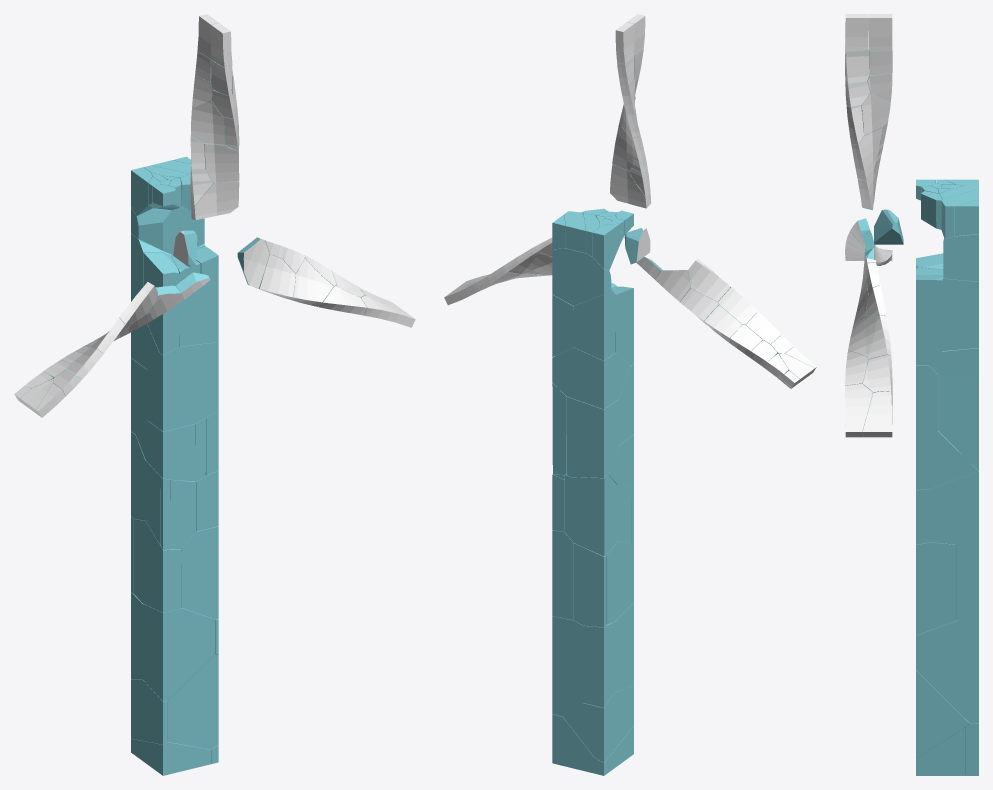
File: windturbine_fracture.glb
3 views of the same model, side by side, from view 1: azimuth 30°, elevation 25°; view 2: azimuth 150°, elevation 25°; view 3: azimuth 270°, elevation 25° (orthographic). The views are drawn at different scales.
Parts seen in each view (by area): view 1: WindTurbine_cell.033, WindTurbine_cell.086, WindTurbine_cell.080, WindTurbine_cell.094, WindTurbine_cell.015, WindTurbine_cell.088, WindTurbine_cell.073, WindTurbine_cell.059, WindTurbine_cell.099, WindTurbine_cell.081, WindTurbine_cell.032, WindTurbine_cell.019 (+22 smaller); view 2: WindTurbine_cell.072, WindTurbine_cell.012, WindTurbine_cell.099, WindTurbine_cell.004, WindTurbine_cell.005, WindTurbine_cell.073, WindTurbine_cell.075, WindTurbine_cell.031, WindTurbine_cell.089, WindTurbine_cell.094, WindTurbine_cell.063, WindTurbine_cell.056 (+21 smaller); view 3: WindTurbine_cell.004, WindTurbine_cell.015, WindTurbine_cell.062, WindTurbine_cell.060, WindTurbine_cell.022, WindTurbine_cell.080, WindTurbine_cell.054, WindTurbine_cell.032, WindTurbine_cell.063, WindTurbine_cell.083, WindTurbine_cell.073, WindTurbine_cell.033 (+30 smaller).
Boxes of the visible parts, box(x1,y1,x2,y2) form: WindTurbine_cell.033: box(147, 342, 218, 431); WindTurbine_cell.086: box(142, 604, 214, 701); WindTurbine_cell.080: box(168, 654, 218, 749); WindTurbine_cell.094: box(133, 519, 181, 612); WindTurbine_cell.015: box(181, 526, 218, 619); WindTurbine_cell.088: box(136, 420, 195, 481); WindTurbine_cell.073: box(131, 207, 204, 254); WindTurbine_cell.059: box(143, 252, 179, 354); WindTurbine_cell.099: box(131, 679, 167, 744); WindTurbine_cell.081: box(131, 738, 210, 775); WindTurbine_cell.032: box(196, 246, 218, 343); WindTurbine_cell.019: box(170, 479, 195, 549); WindTurbine_cell.072: box(566, 396, 618, 477); WindTurbine_cell.012: box(552, 347, 630, 409); WindTurbine_cell.099: box(563, 685, 633, 762); WindTurbine_cell.004: box(552, 616, 583, 716); WindTurbine_cell.005: box(564, 477, 603, 556); WindTurbine_cell.073: box(552, 248, 611, 305); WindTurbine_cell.075: box(573, 543, 606, 627); WindTurbine_cell.031: box(583, 622, 614, 707); WindTurbine_cell.089: box(573, 289, 615, 360); WindTurbine_cell.094: box(606, 541, 633, 624); WindTurbine_cell.063: box(552, 530, 573, 620); WindTurbine_cell.056: box(552, 714, 594, 773); WindTurbine_cell.004: box(916, 620, 978, 723); WindTurbine_cell.015: box(916, 542, 956, 635); WindTurbine_cell.062: box(938, 375, 978, 470); WindTurbine_cell.060: box(930, 471, 978, 544); WindTurbine_cell.022: box(942, 278, 978, 351); WindTurbine_cell.080: box(916, 670, 969, 758); WindTurbine_cell.054: box(916, 431, 978, 489); WindTurbine_cell.032: box(916, 275, 943, 364); WindTurbine_cell.063: box(956, 530, 978, 620); WindTurbine_cell.083: box(916, 728, 965, 775); WindTurbine_cell.073: box(943, 234, 978, 281); WindTurbine_cell.033: box(916, 365, 938, 430).
Size of the model in its own units: 1.09 by 2.1 by 0.3405.
